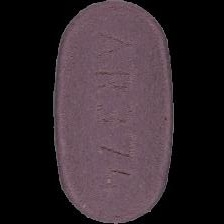54868-6256: (0, 0, 224, 224)
